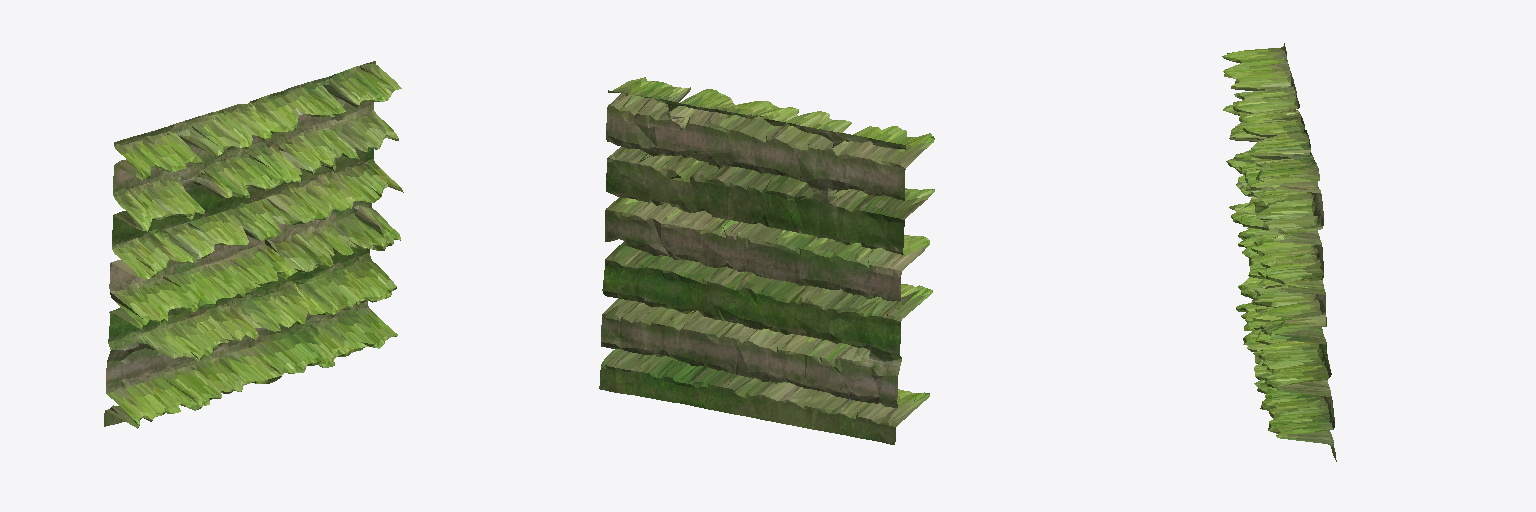
3 renders of one model, left to right at view 1: azimuth 30°, elevation 25°; view 2: azimuth 150°, elevation 25°; view 3: azimuth 270°, elevation 25°, orthographic.
Visible parts, largest first — view 1: grp1; view 2: grp1; view 3: grp1.
Boxes of the visible parts, x1=… form: grp1: x1=104, y1=61, x2=403, y2=428; grp1: x1=599, y1=77, x2=934, y2=444; grp1: x1=1222, y1=43, x2=1336, y2=461.
Bounding box in the file's own units: 10 × 10 × 3.59.
Materials: 1 (1 with a texture image).